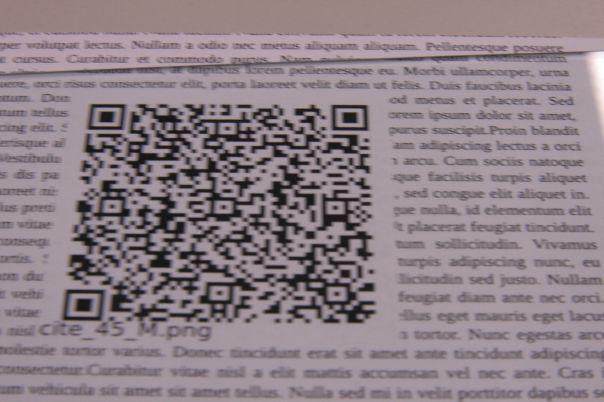Finder pattern: (57, 282, 112, 327), (327, 101, 373, 135), (85, 102, 129, 130)
